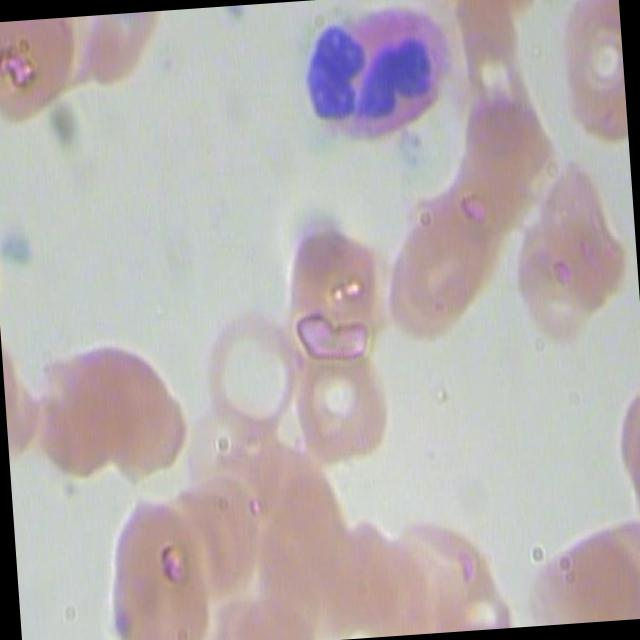RBC: (96, 490, 226, 640), (281, 216, 393, 368), (192, 295, 304, 446), (383, 200, 495, 351), (289, 330, 401, 480), (502, 202, 614, 352), (29, 334, 142, 478), (97, 336, 194, 479), (544, 0, 629, 156), (0, 16, 82, 126)
WBC: (294, 0, 463, 151)
